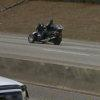Motorcycle: (24, 19, 65, 46)
